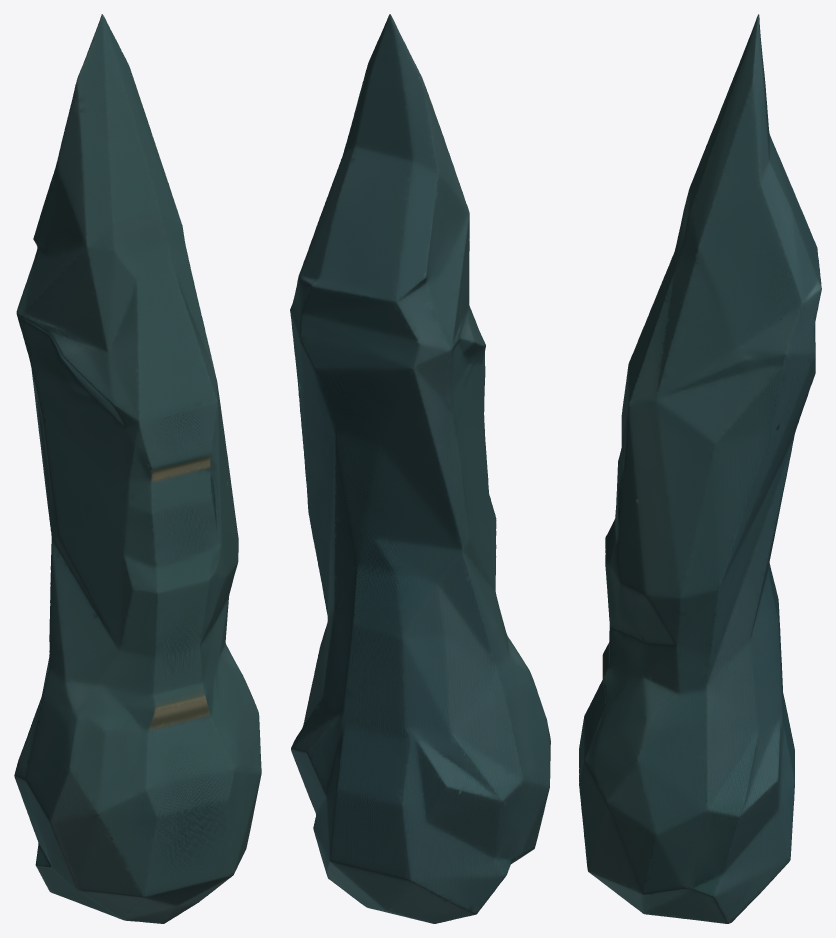
Rendered from Meshy_AI_Single_spike_01_0219194824_texture.fbx.
3 renders of one model, left to right at view 1: azimuth 30°, elevation 25°; view 2: azimuth 150°, elevation 25°; view 3: azimuth 270°, elevation 25°, orthographic. The views are drawn at different scales.
Visible parts, largest first — view 1: Mesh_0; view 2: Mesh_0; view 3: Mesh_0.
Boxes of the visible parts, box(x1,y1,x2,y2) form: Mesh_0: box(14, 14, 261, 923); Mesh_0: box(290, 14, 550, 923); Mesh_0: box(579, 14, 821, 923).
Bounding box in the file's own units: 50.8 × 200 × 49.4.
1 material, 1 textured.
